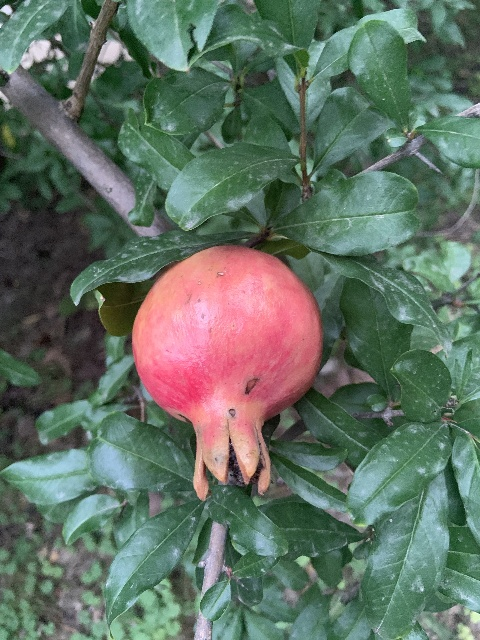ripe: (131, 243, 322, 502)
